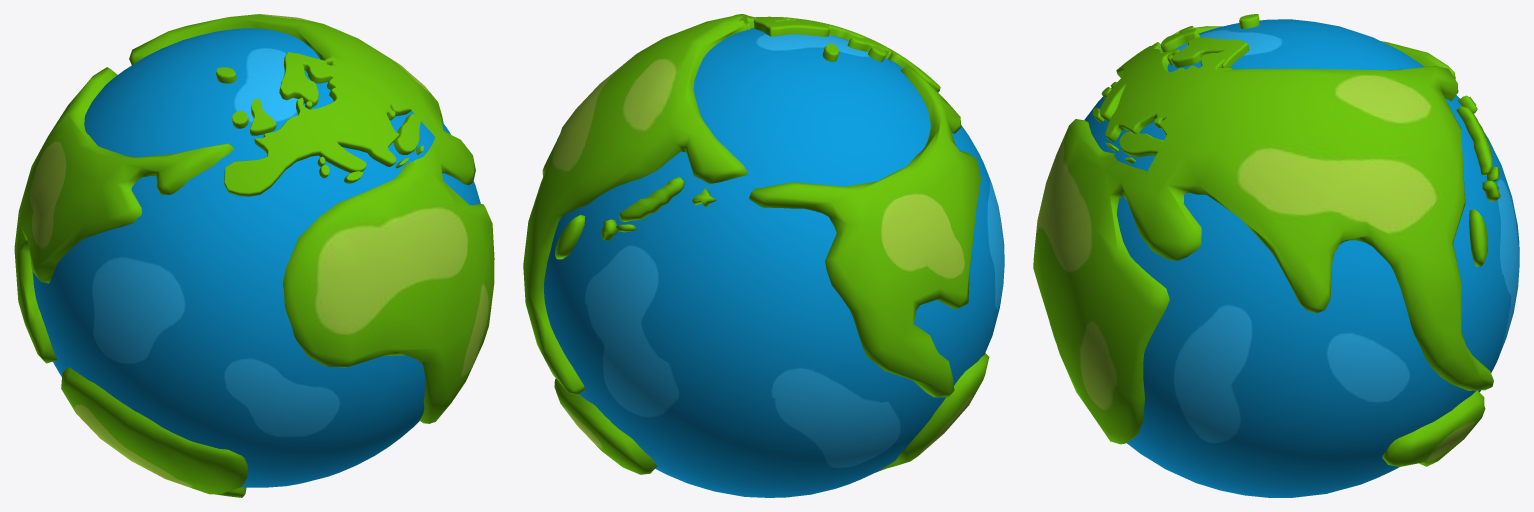
File: globe.glb
3 renders of one model, left to right at view 1: azimuth 30°, elevation 25°; view 2: azimuth 150°, elevation 25°; view 3: azimuth 270°, elevation 25°, orthographic. The views are drawn at different scales.
Visible parts, largest first — view 1: Oceans, Continents, Europe_Mainland, Europe_Island_10, Europe_Island_05; view 2: Oceans, Continents, Europe_Mainland, Japan_Honshu, Taiwan; view 3: Continents, Oceans, Europe_Mainland, Japan_Honshu, Europe_Island_10, Taiwan.
Part boxes in pixels (left/top/right/bottom): Oceans: left=31, top=28, right=480, bottom=487; Continents: left=14, top=14, right=494, bottom=497; Europe_Mainland: left=224, top=52, right=411, bottom=196; Europe_Island_10: left=393, top=113, right=420, bottom=154; Europe_Island_05: left=250, top=99, right=276, bottom=135; Oceans: left=544, top=27, right=1004, bottom=497; Continents: left=523, top=15, right=989, bottom=474; Europe_Mainland: left=733, top=14, right=940, bottom=92; Japan_Honshu: left=618, top=177, right=684, bottom=221; Taiwan: left=555, top=215, right=585, bottom=259; Continents: left=1033, top=26, right=1493, bottom=466; Oceans: left=1050, top=19, right=1519, bottom=497; Europe_Mainland: left=1099, top=37, right=1249, bottom=141; Japan_Honshu: left=1456, top=106, right=1492, bottom=175; Europe_Island_10: left=1119, top=131, right=1163, bottom=157; Taiwan: left=1469, top=209, right=1487, bottom=266.
Bounding box in the file's own units: 2.06 × 2.04 × 2.02.
Materials: 1 (1 with a texture image).
